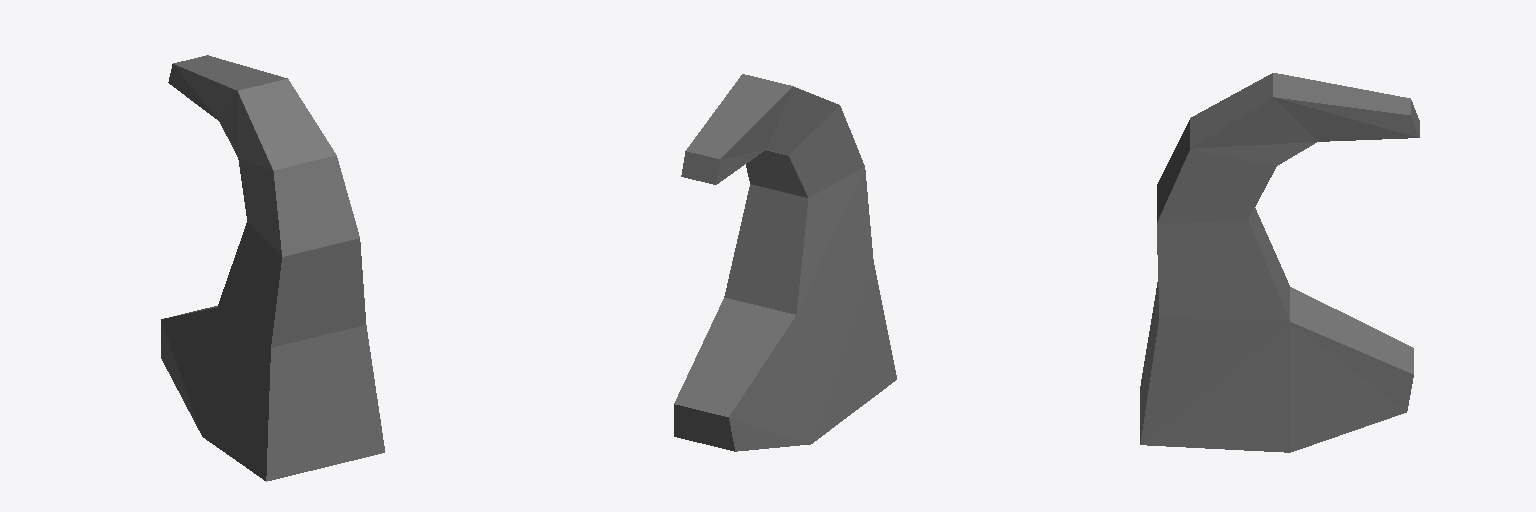
File: ridge.obj
3 renders of one model, left to right at view 1: azimuth 30°, elevation 25°; view 2: azimuth 150°, elevation 25°; view 3: azimuth 270°, elevation 25°, orthographic.
Visible parts, largest first — view 1: pCube3; view 2: pCube3; view 3: pCube3.
Boxes of the visible parts, <box> form: pCube3: <box>161,55,384,481</box>; pCube3: <box>674,74,896,451</box>; pCube3: <box>1140,73,1419,452</box>.
Bounding box in the file's own units: 0.9911 × 2.75 × 2.01.